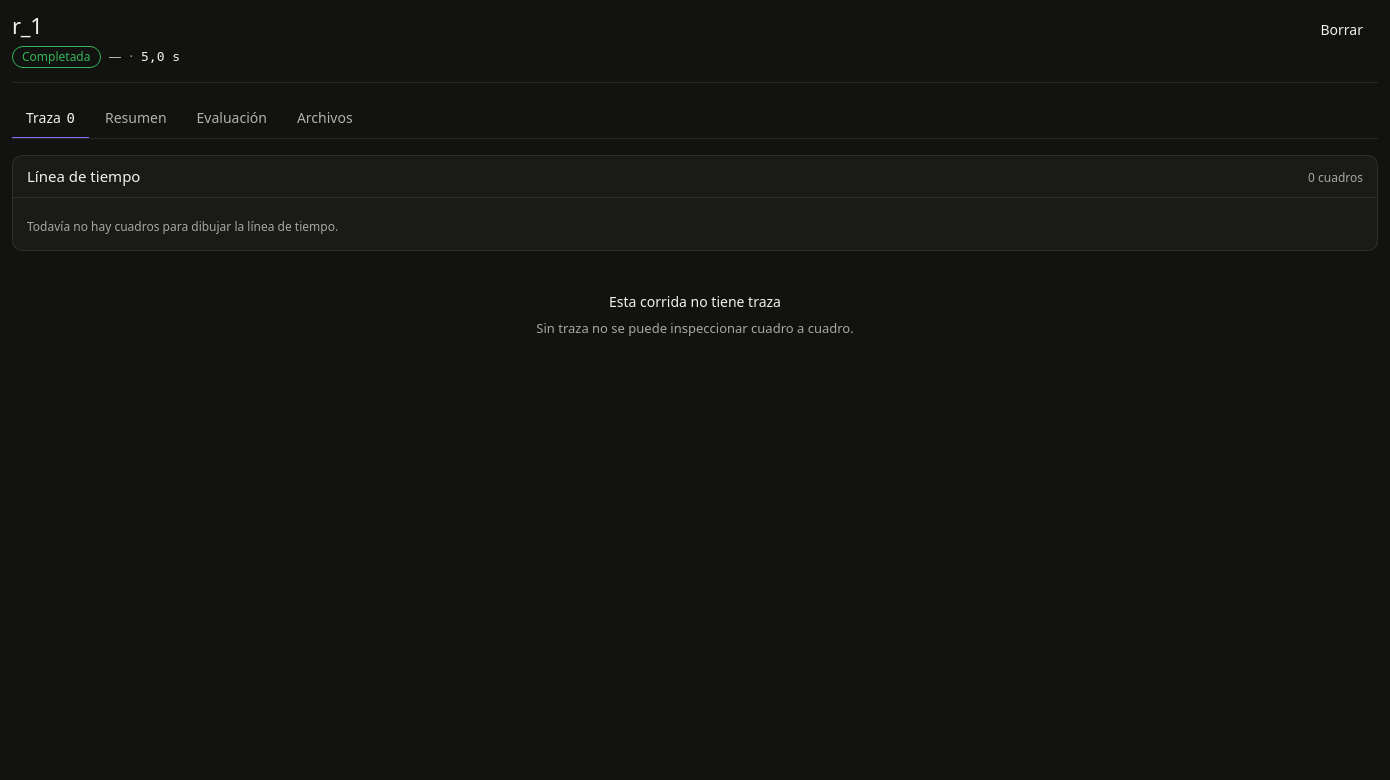
Test: RunDetailPage › muestra la tira de indicadores con los rótulos del glosario
The width and height of the screenshot is (1390, 780).
// Los indicadores viven en la pestaña Resumen: la Traza es la inicial.
Click the tab "Resumen": [136, 118] box [91,98,181,138]
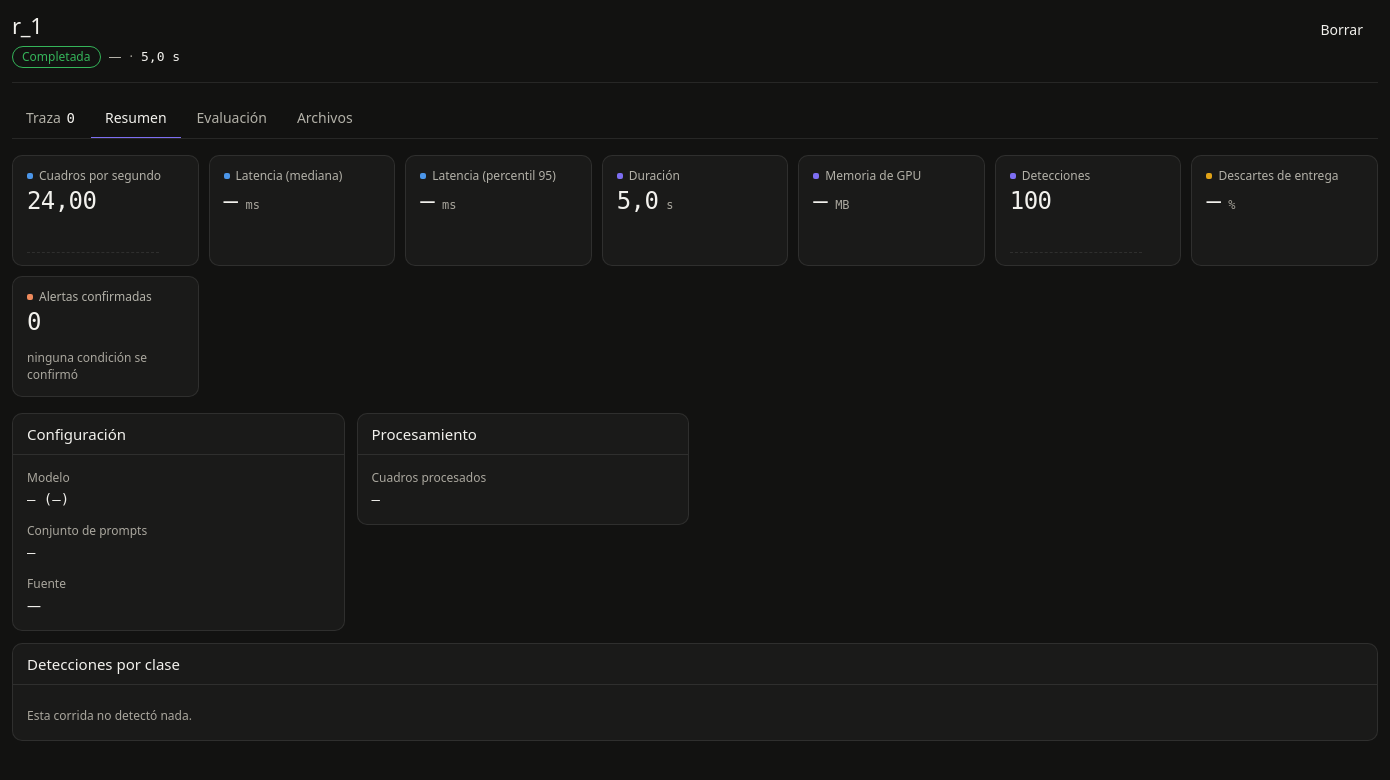
Result: the text "Cuadros por segundo" is shown at [27,168,184,184]
Result: the text "24,00" is shown at [27,187,96,215]
Result: the text "100" is shown at [1010,187,1051,215]
